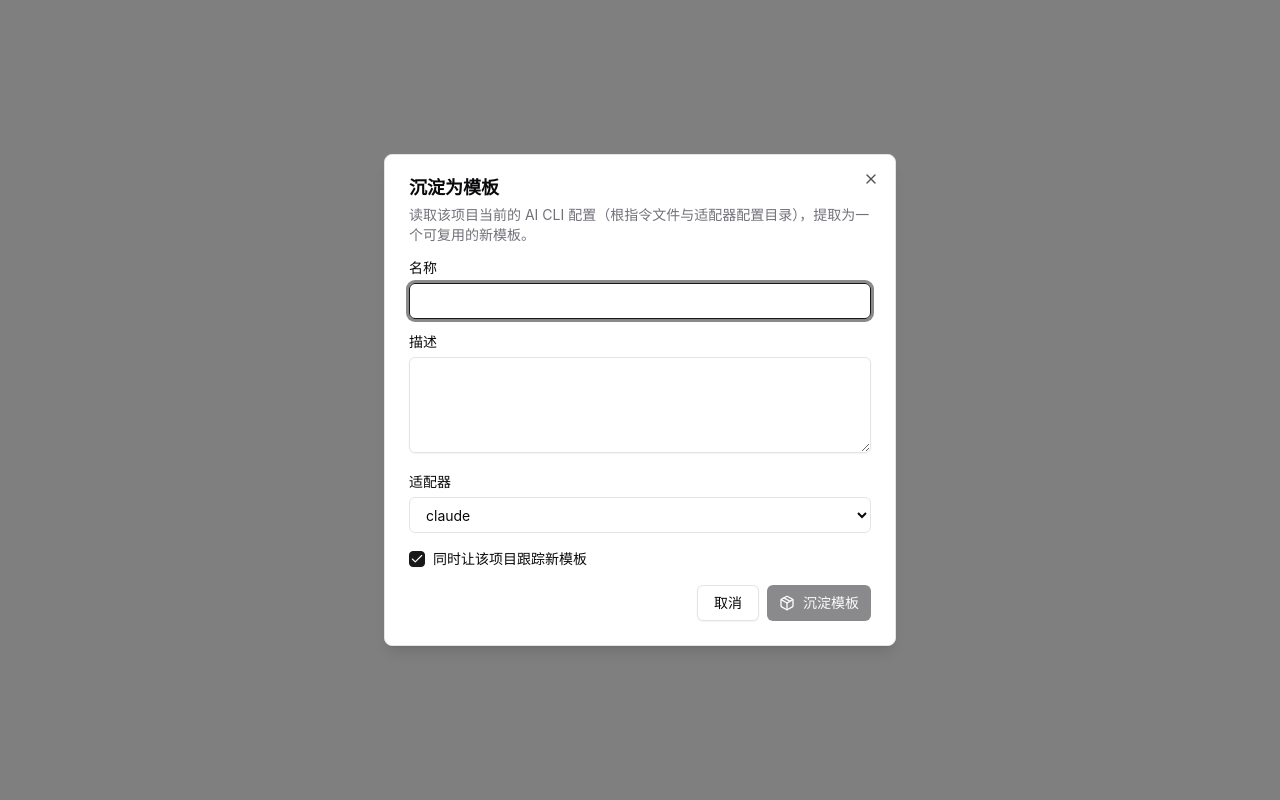
Test: ExtractTemplateDialog › shows extracted and skipped files after success and notifies the page
In the field labelled "名称": (640, 301) top-left (409, 283), bottom-right (871, 319), type "My Template"
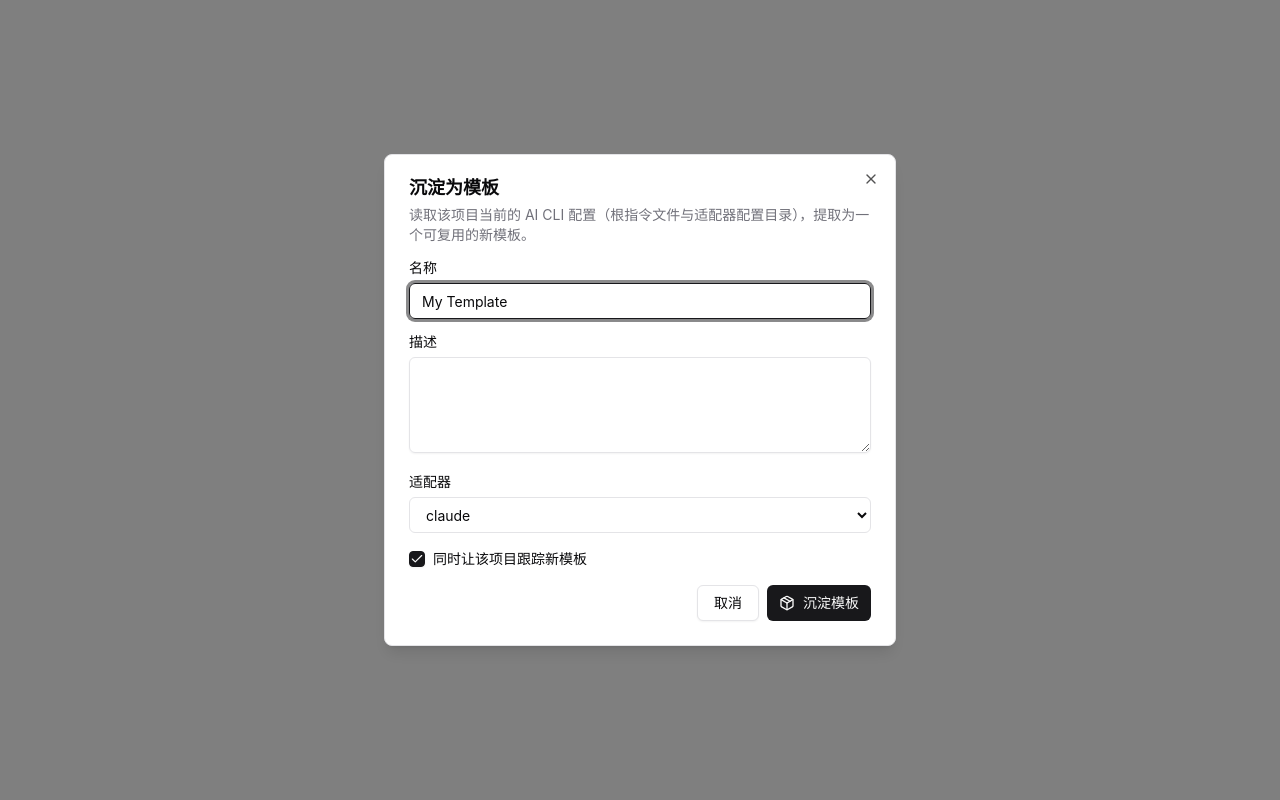
Click the button "沉淀模板": (819, 603) top-left (767, 585), bottom-right (871, 621)
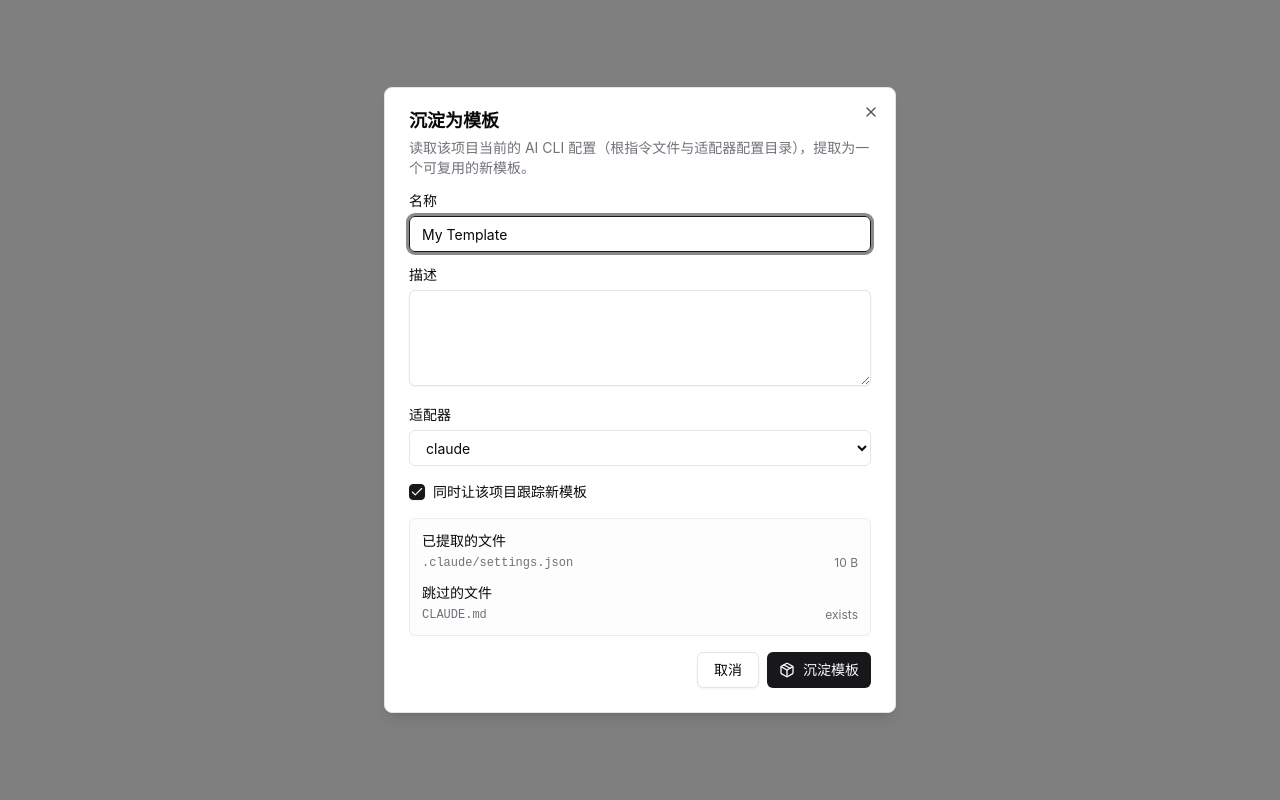
Expected: the text ".claude/settings.json" is shown, top-left (422, 556), bottom-right (573, 570)
Expected: the text "已提取的文件" is shown, top-left (422, 532), bottom-right (506, 549)
Expected: the text "跳过的文件" is shown, top-left (422, 584), bottom-right (492, 601)
